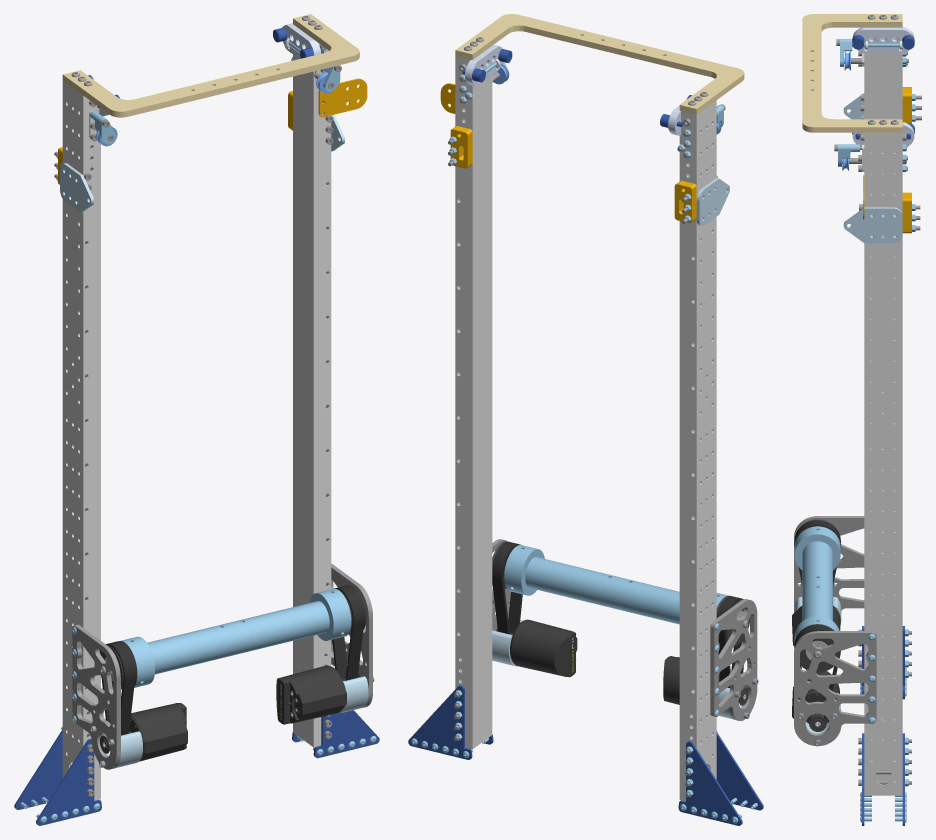
3 renders of one model, left to right at view 1: azimuth 30°, elevation 25°; view 2: azimuth 150°, elevation 25°; view 3: azimuth 270°, elevation 25°, orthographic. The views are drawn at different scales.
Visible parts, largest first — view 1: Tube_Ele_A (×2), Plate_EleGearbox (×2), 0st Stage top, Spindle_Ele1stdown, Kraken X60 Brushless Motor (×2), Part 5 (×3), Belt_5M15mm_L325 (×2), ??????? (×2), Part_Spacer_EleGearbox (×2), Part 34, Part 14, elevator component bearing block; view 2: Tube_Ele_A (×2), Part 5 (×3), 0st Stage top, Spindle_Ele1stdown, Plate_EleGearbox, Kraken X60 Brushless Motor (×2), Belt_5M15mm_L325, Tube_Block_Front (×2), ???????, Part 14, elevator component bearing block; view 3: Tube_Ele_A (×2), Plate_EleGearbox (×2), 0st Stage top, Spindle_Ele1stdown, Part 14 (×2), elevator component bearing block (×2), ??????? (×2), Kraken X60 Brushless Motor (×2), Tube_Block_Front (×2), Belt_5M15mm_L325 (×2), Part 5 (×2), Pulley5M_36T_d16 (+1 smaller).
Part boxes in pixels (box(x1,y1,x2,y2)): Tube_Ele_A (×2): box(62, 43, 331, 800); Plate_EleGearbox (×2): box(72, 563, 372, 769); 0st Stage top: box(62, 14, 359, 117); Spindle_Ele1stdown: box(147, 601, 329, 674); Kraken X60 Brushless Motor (×2): box(102, 665, 346, 761); Part 5 (×3): box(14, 710, 379, 825); Belt_5M15mm_L325 (×2): box(101, 585, 364, 735); ??????? (×2): box(121, 588, 351, 687); Part_Spacer_EleGearbox (×2): box(102, 663, 368, 767); Part 34: box(318, 78, 367, 117); Part 14: box(60, 163, 94, 212); elevator component bearing block: box(282, 23, 321, 58); Tube_Ele_A (×2): box(455, 56, 716, 801); Part 5 (×3): box(408, 685, 763, 825); 0st Stage top: box(455, 14, 744, 114); Spindle_Ele1stdown: box(525, 557, 679, 624); Plate_EleGearbox: box(710, 599, 757, 720); Kraken X60 Brushless Motor (×2): box(510, 619, 746, 704); Belt_5M15mm_L325: box(492, 541, 522, 634); Tube_Block_Front (×2): box(450, 126, 696, 223); ???????: box(504, 545, 544, 595); Part 14: box(696, 178, 729, 226); elevator component bearing block: box(465, 45, 502, 86); Tube_Ele_A (×2): box(864, 35, 902, 795); Plate_EleGearbox (×2): box(794, 516, 876, 745); 0st Stage top: box(802, 14, 902, 132); Spindle_Ele1stdown: box(802, 541, 832, 620); Part 14 (×2): box(843, 93, 902, 243); elevator component bearing block (×2): box(852, 27, 914, 147); ??????? (×2): box(794, 526, 840, 641); Kraken X60 Brushless Motor (×2): box(792, 605, 840, 726); Tube_Block_Front (×2): box(902, 87, 911, 233); Belt_5M15mm_L325 (×2): box(794, 520, 840, 721); Part 5 (×2): box(862, 733, 904, 825); Pulley5M_36T_d16: box(796, 624, 840, 672).
Bounding box in the file's own units: 0.4832 × 0.9807 × 0.1694.
